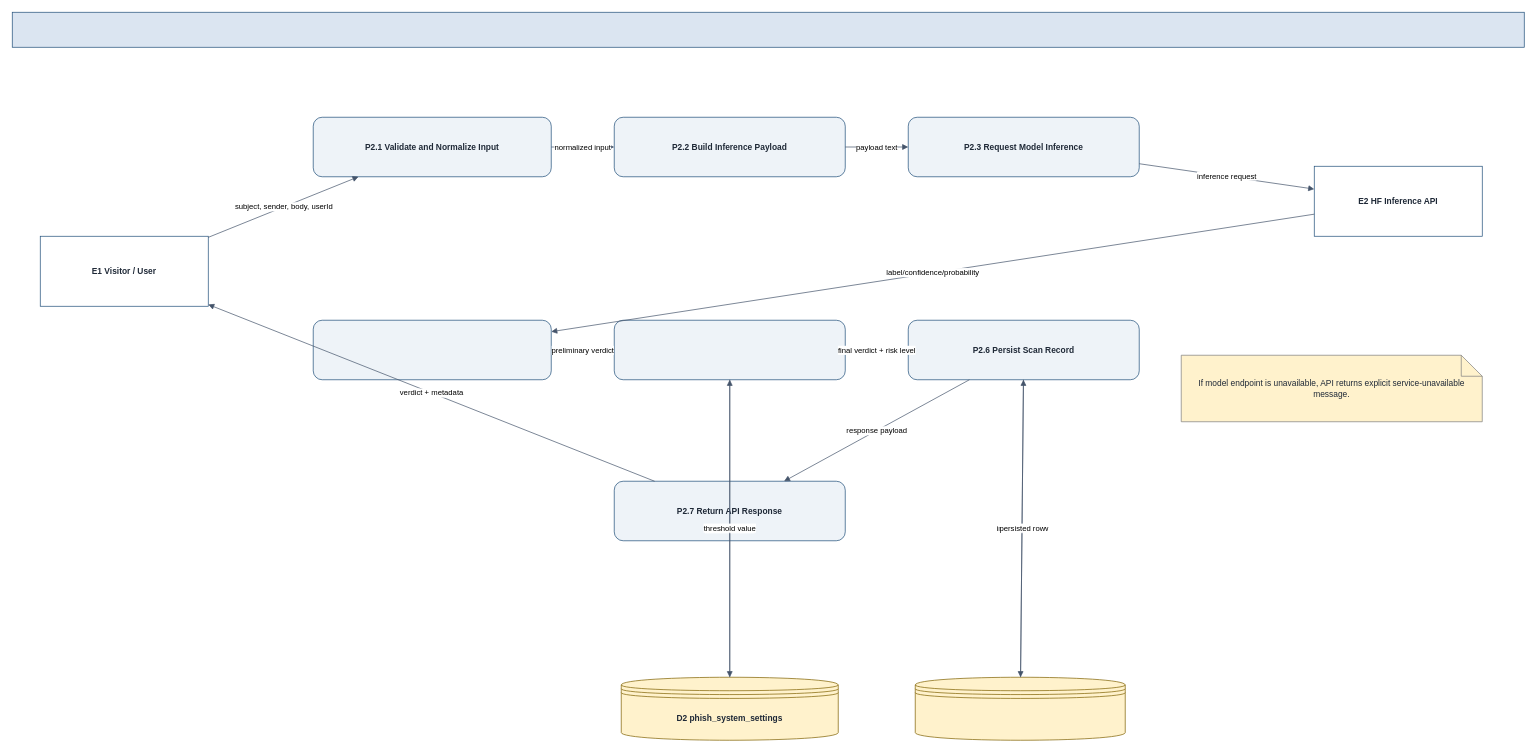
Some shapes in this 1537 by 753 pixel diagram are drawn without their labels. Each missing label, with the box of its shape:
D1 phish_email_scans: (915, 677, 1125, 740)
P2.4 Transform Prediction to Verdict: (313, 320, 551, 380)
P2.5 Apply Threshold and Risk Mapping: (614, 320, 845, 380)
PhishBERT Data Flow Diagram - Level 2 (P2 Email Analysis and Verdict Generation): (12, 12, 1524, 47)
